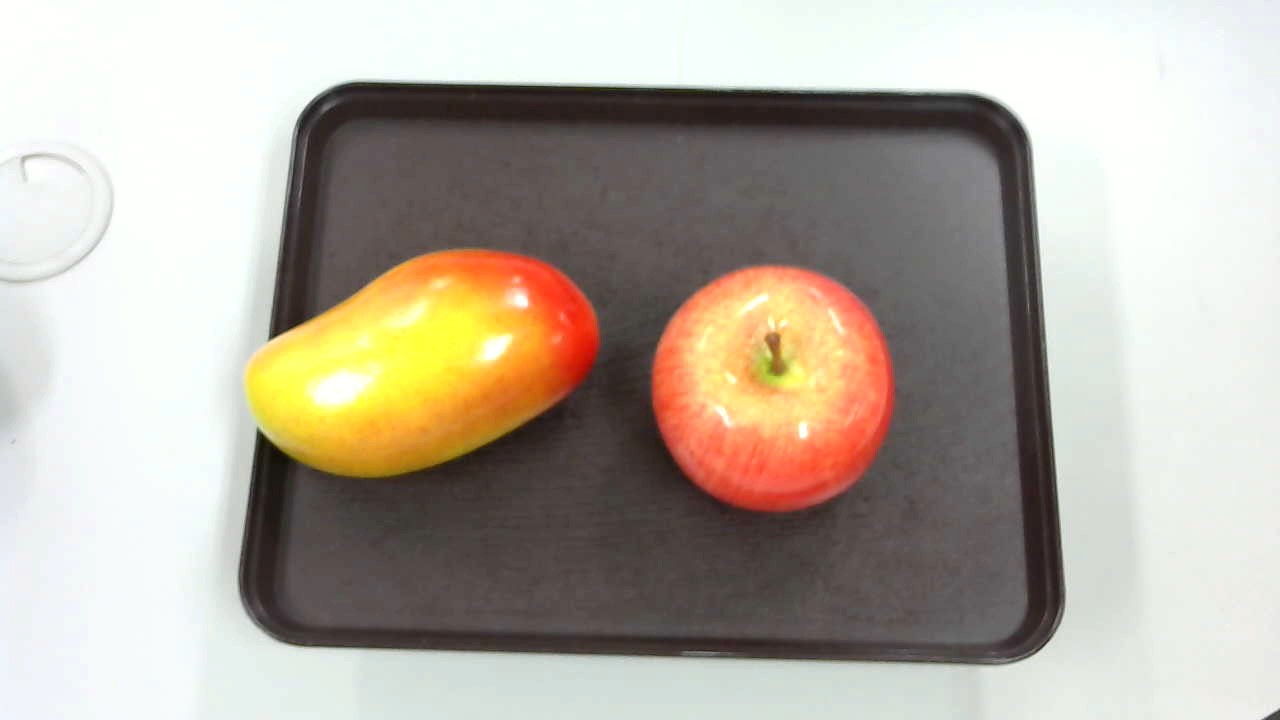red apple: (652, 264, 896, 524)
red mango: (236, 242, 609, 474)
